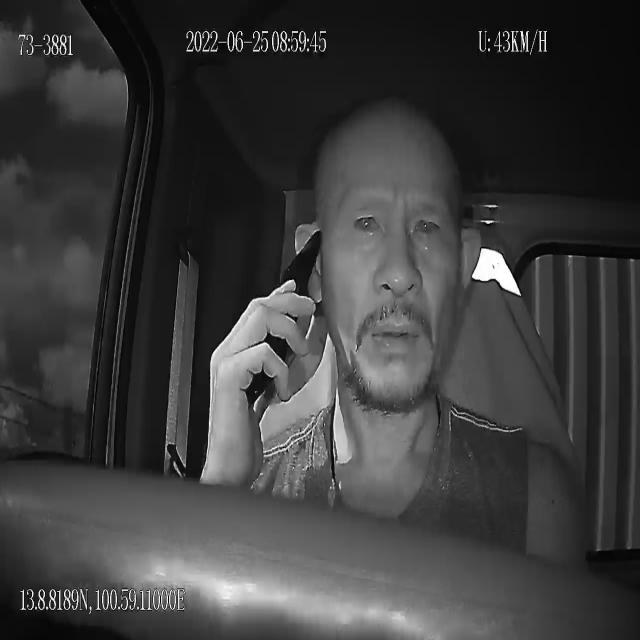phone: (245, 228, 325, 412)
